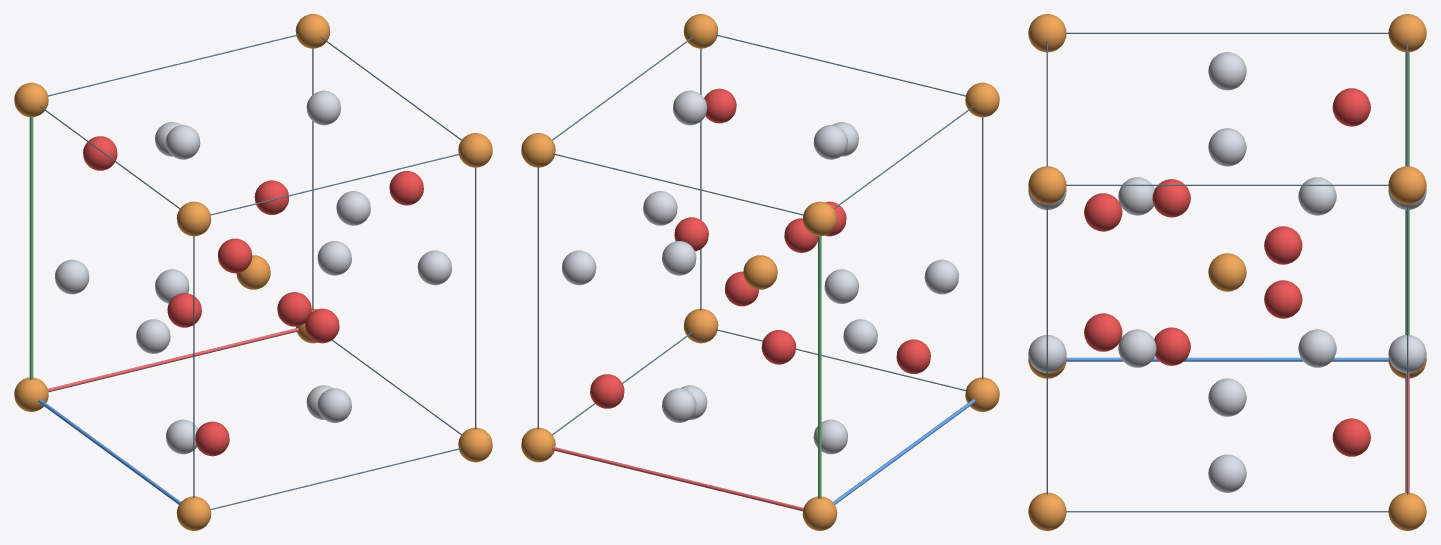
The model's file is chat-silver-phosphate.glb.
3 views of the same model, side by side, from view 1: azimuth 30°, elevation 25°; view 2: azimuth 150°, elevation 25°; view 3: azimuth 270°, elevation 25° (orthographic). The views are drawn at different scales.
Visible parts, largest first — view 1: Ag1 · Ag · 1 (×10), O1 · O · 1 (×8), P1 · P · 1 (×8), Ô mạng và các trục a, b, c; view 2: Ag1 · Ag · 1 (×10), P1 · P · 1 (×9), Ô mạng và các trục a, b, c, O1 · O · 1 (×7); view 3: Ag1 · Ag · 1 (×10), O1 · O · 1 (×8), P1 · P · 1 (×7), Ô mạng và các trục a, b, c.
Part boxes in pixels (x1=…): Ag1 · Ag · 1 (×10): x1=55, y1=90, x2=451, y2=454; O1 · O · 1 (×8): x1=83, y1=136, x2=423, y2=456; P1 · P · 1 (×8): x1=14, y1=14, x2=492, y2=530; Ô mạng và các trục a, b, c: x1=29, y1=34, x2=476, y2=509; Ag1 · Ag · 1 (×10): x1=562, y1=90, x2=958, y2=454; P1 · P · 1 (×9): x1=521, y1=14, x2=999, y2=530; Ô mạng và các trục a, b, c: x1=537, y1=34, x2=983, y2=511; O1 · O · 1 (×7): x1=590, y1=88, x2=930, y2=408; Ag1 · Ag · 1 (×10): x1=1028, y1=52, x2=1426, y2=492; O1 · O · 1 (×8): x1=1084, y1=88, x2=1370, y2=456; P1 · P · 1 (×7): x1=1028, y1=14, x2=1426, y2=530; Ô mạng và các trục a, b, c: x1=1046, y1=32, x2=1409, y2=512.
Bounding box in the file's own units: 6.63 × 6.63 × 6.63.
